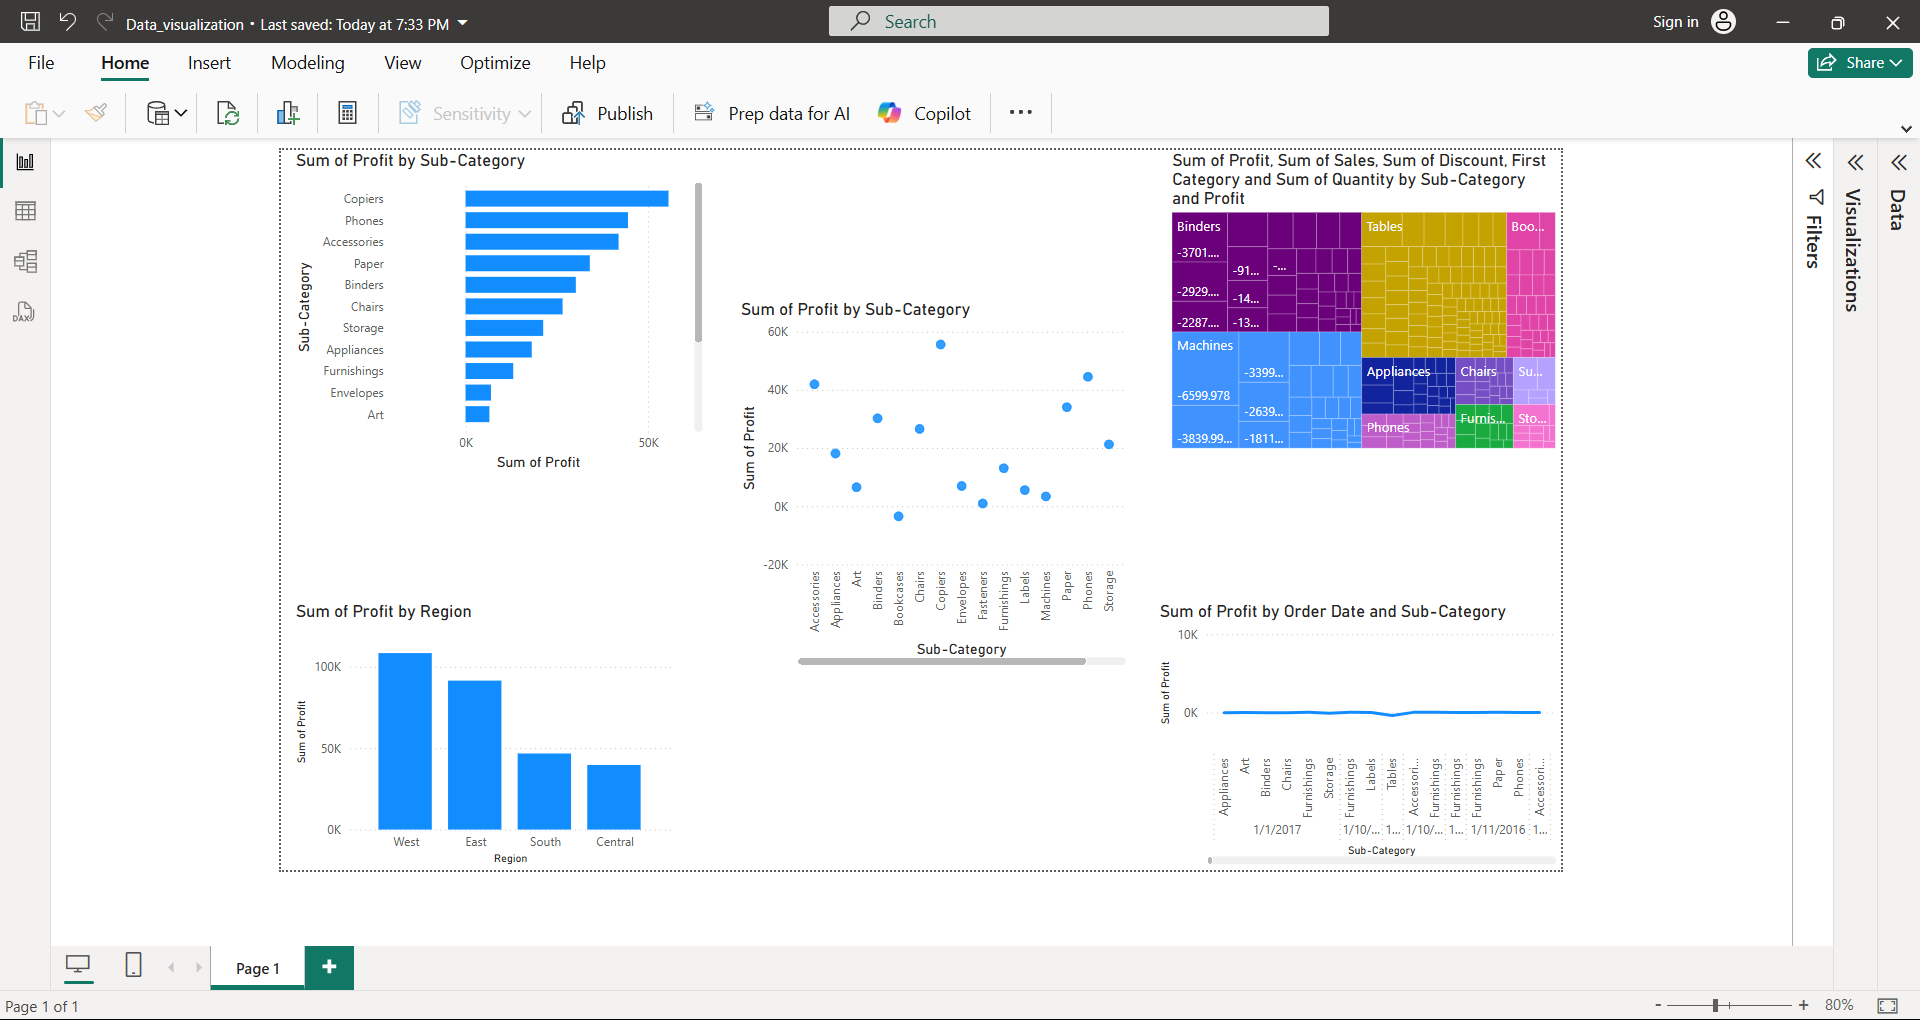

What the dashboard file says about the page in this screenshot:
{"tool":"powerbi","page":{"name":"Page 1","canvas":[1280,720],"ordinal":0},"visuals":[{"type":"barChart","fields":{"Category":["Superstore.Sub-Category"],"Y":["Sum(Superstore.Profit)"]},"box":[10,0,416.7,325],"z":0},{"type":"scatterChart","fields":{"X":["Superstore.Sub-Category"],"Y":["Sum(Superstore.Profit)"]},"box":[455,148.3,395,371.7],"z":1000},{"type":"columnChart","fields":{"Category":["Superstore.Region"],"Y":["Sum(Superstore.Profit)"]},"box":[10,451.7,385,268.3],"z":2000},{"type":"lineChart","fields":{"Category":["Superstore.Order Date","Superstore.Sub-Category"],"Y":["Sum(Superstore.Profit)"]},"box":[873.3,451.7,406.7,268.3],"z":3000},{"type":"treemap","fields":{"Group":["Superstore.Sub-Category"],"Values":["Sum(Superstore.Profit)"],"Details":["Superstore.Profit"]},"box":[886.7,0,393.3,303.3],"z":4000}]}

Visuals, with their boxes on the page's 1280x720 design canvas (x1, y1, x2, y2). These are canvas units, not pixel positions in the 1920x1020 screenshot, which may show the page scaled, cropped or inside an application window:
barChart - Superstore.Sub-Category x Sum(Superstore.Profit): bbox(10, 0, 427, 325)
scatterChart - Superstore.Sub-Category x Sum(Superstore.Profit): bbox(455, 148, 850, 520)
columnChart - Superstore.Region x Sum(Superstore.Profit): bbox(10, 452, 395, 720)
lineChart - Superstore.Order Date x Superstore.Sub-Category: bbox(873, 452, 1280, 720)
treemap - Superstore.Sub-Category x Sum(Superstore.Profit): bbox(887, 0, 1280, 303)
